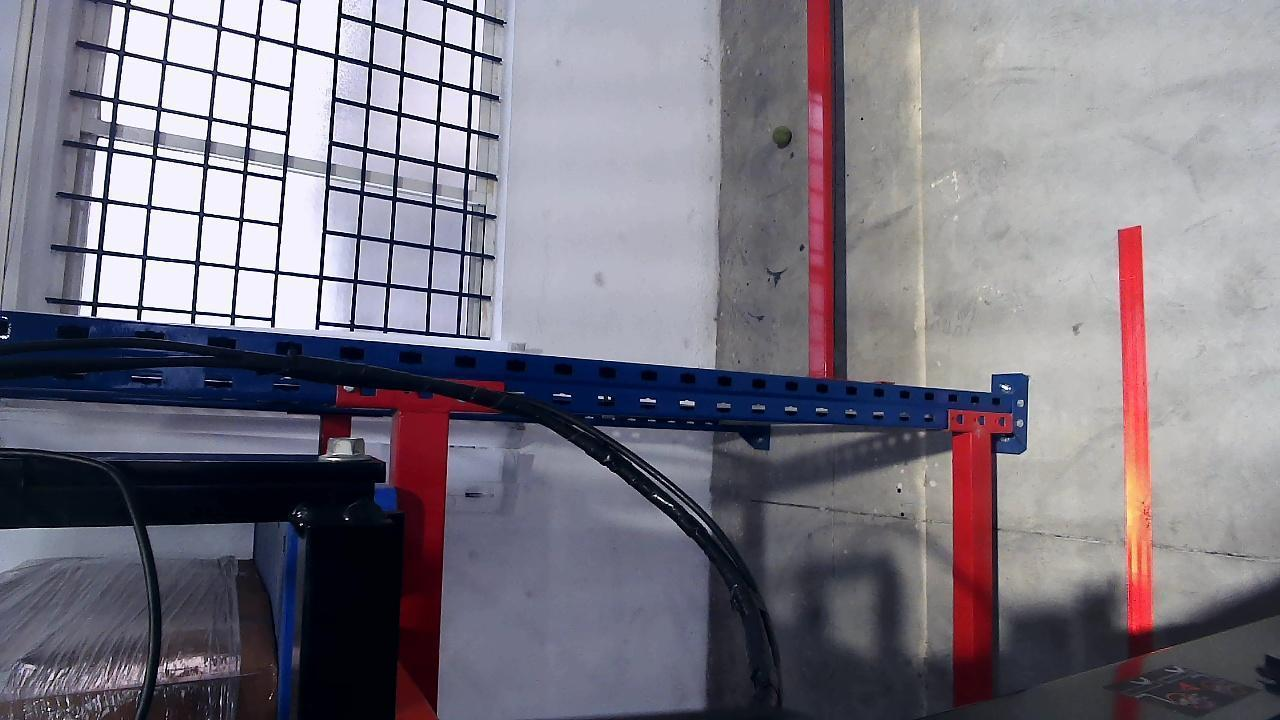red_line: (1117, 226, 1151, 628)
